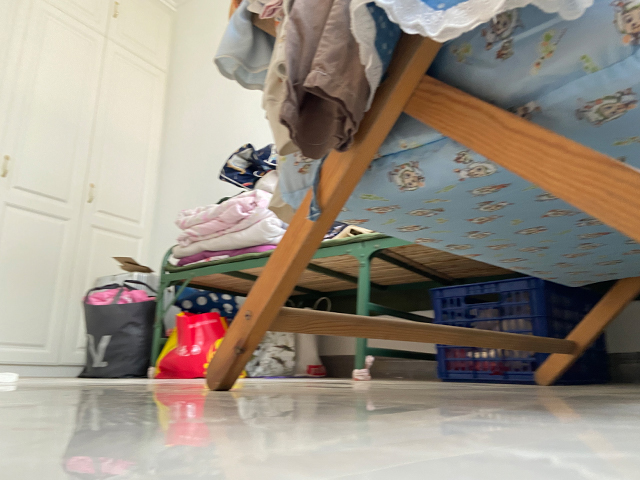bed: (150, 232, 522, 381)
cabinet: (1, 1, 176, 380)
